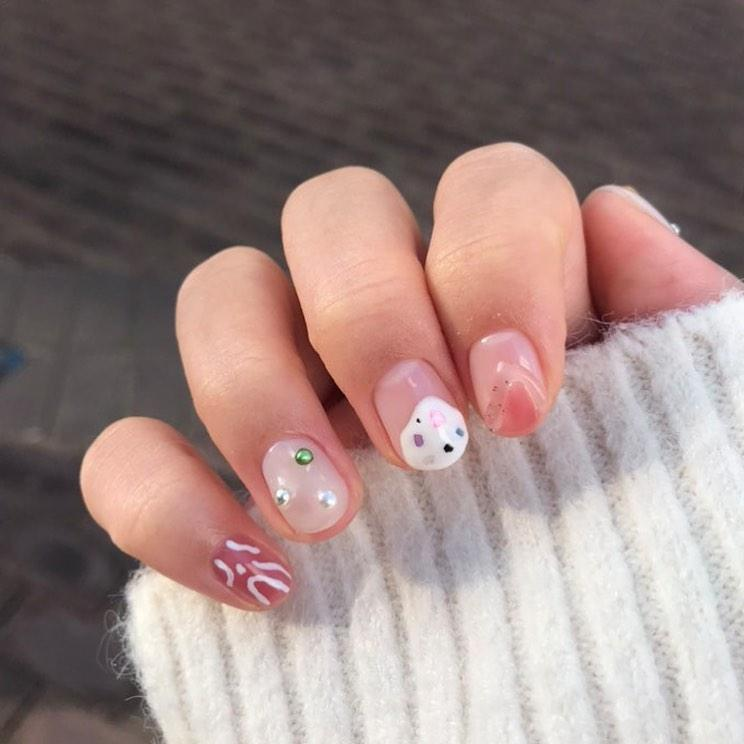nail: (371, 356, 469, 471), (260, 434, 349, 536), (467, 327, 547, 438), (210, 532, 293, 608)
